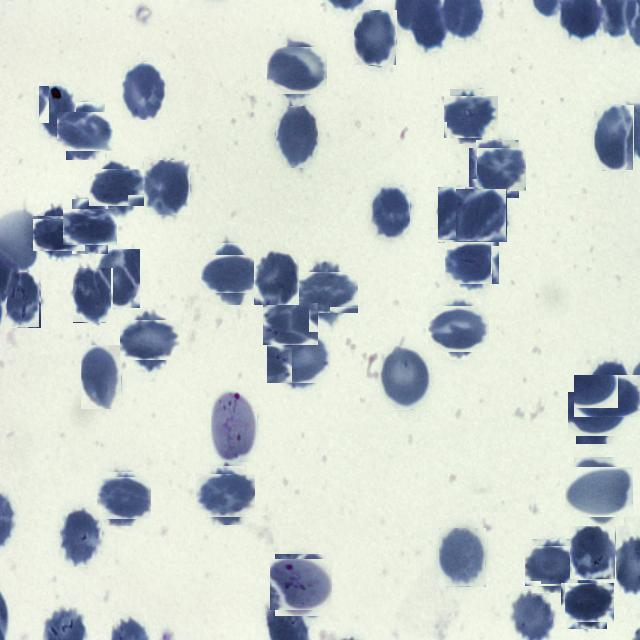red blood cell: (570, 462, 628, 522), (380, 346, 432, 410), (270, 330, 327, 388), (580, 368, 636, 423), (270, 44, 324, 98), (432, 302, 486, 356), (439, 528, 486, 587), (199, 469, 251, 522), (301, 267, 353, 319), (572, 388, 624, 440), (456, 189, 507, 242), (81, 345, 122, 410), (594, 105, 634, 171), (276, 106, 318, 168), (206, 248, 256, 300), (124, 314, 176, 364), (96, 249, 140, 308), (438, 187, 484, 243), (122, 62, 166, 120), (472, 144, 523, 194), (144, 160, 190, 215), (60, 507, 102, 567), (570, 526, 616, 580), (254, 250, 299, 305), (354, 10, 397, 66), (62, 106, 110, 156), (266, 300, 316, 348), (100, 474, 148, 522), (528, 542, 576, 590), (448, 238, 496, 286), (447, 92, 495, 140), (72, 268, 112, 323), (67, 203, 113, 250), (564, 580, 610, 626), (93, 164, 139, 210), (39, 86, 77, 140), (371, 187, 410, 238), (36, 212, 80, 256), (7, 272, 40, 328)
ring: (272, 556, 330, 614), (211, 389, 257, 462)
